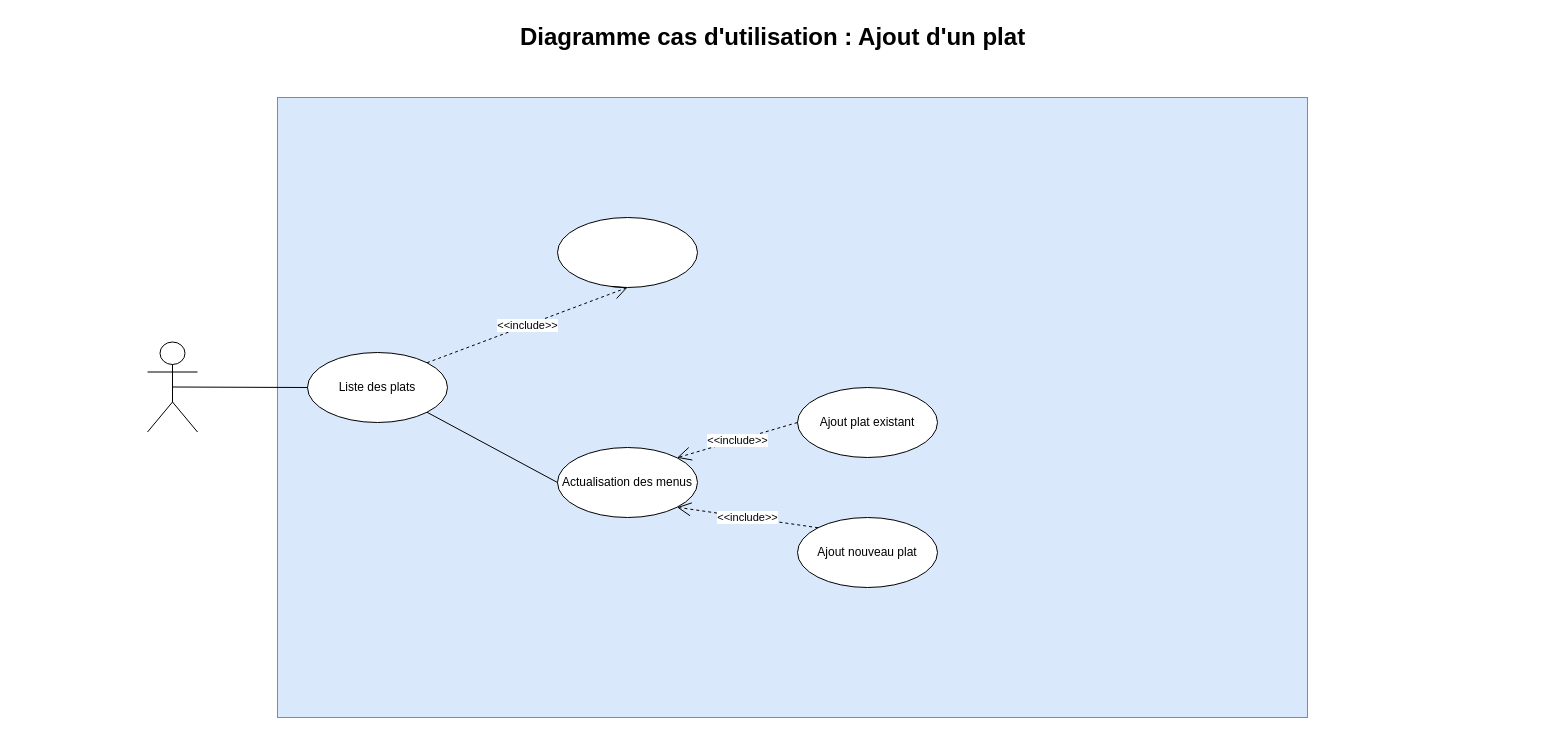
The diagram is 1544 pixels wide and 735 high, and some of its shapes have lost their labels. The box of each missing label's shape, as (x1, y1, x2, y2) in pixels:
Authentification: (556, 216, 698, 288)
Team ExpressFood: (146, 341, 198, 432)
